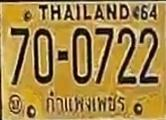0: (33, 28, 53, 83), (72, 26, 91, 82)
2: (117, 26, 137, 85), (139, 27, 159, 85)
7: (94, 27, 113, 81), (10, 27, 28, 82)
KPT: (40, 87, 128, 115)
